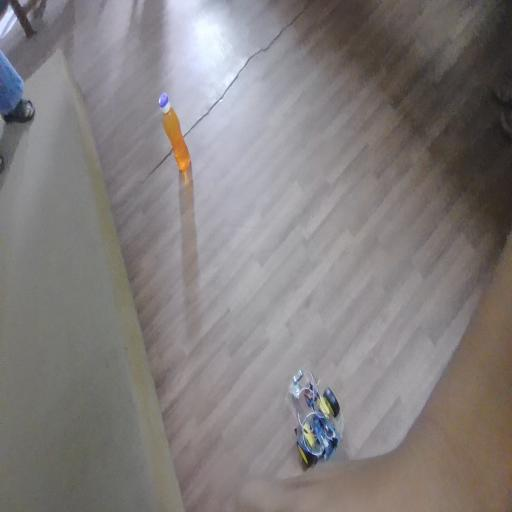Bottle: (158, 97, 196, 186)
car: (282, 367, 334, 460)
